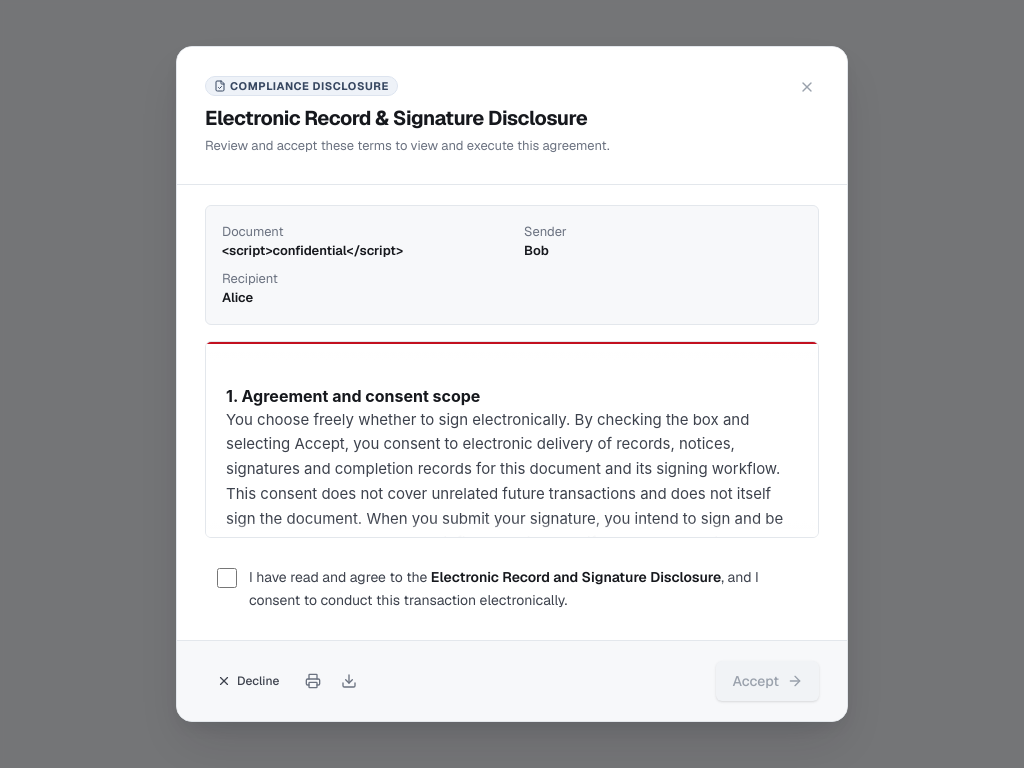
Test: ElectronicConsentModal (INK-99) › retains the decline confirmation and reports a failed submission
Step 1. Click the button with test id "ersd-decline-button" → (248, 681), box top-left (205, 665), bottom-right (291, 697)
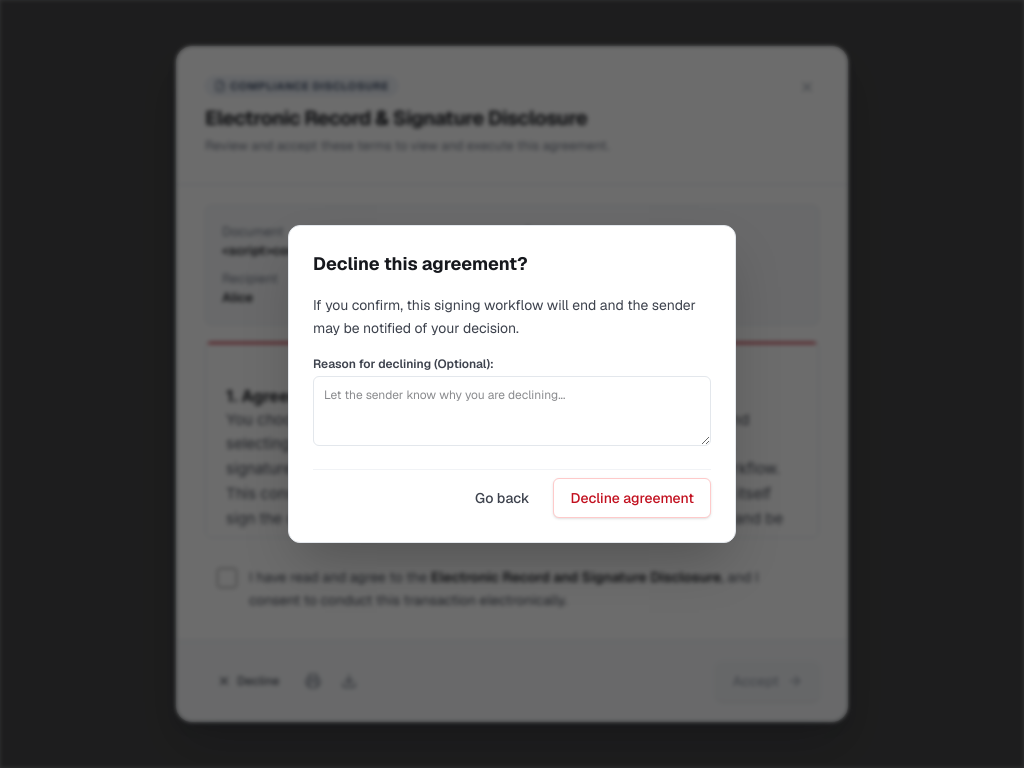
Step 2. Type "  Paper please  " into the text box labelled "Reason for declining (Optional):" → (512, 411), box top-left (313, 376), bottom-right (711, 446)
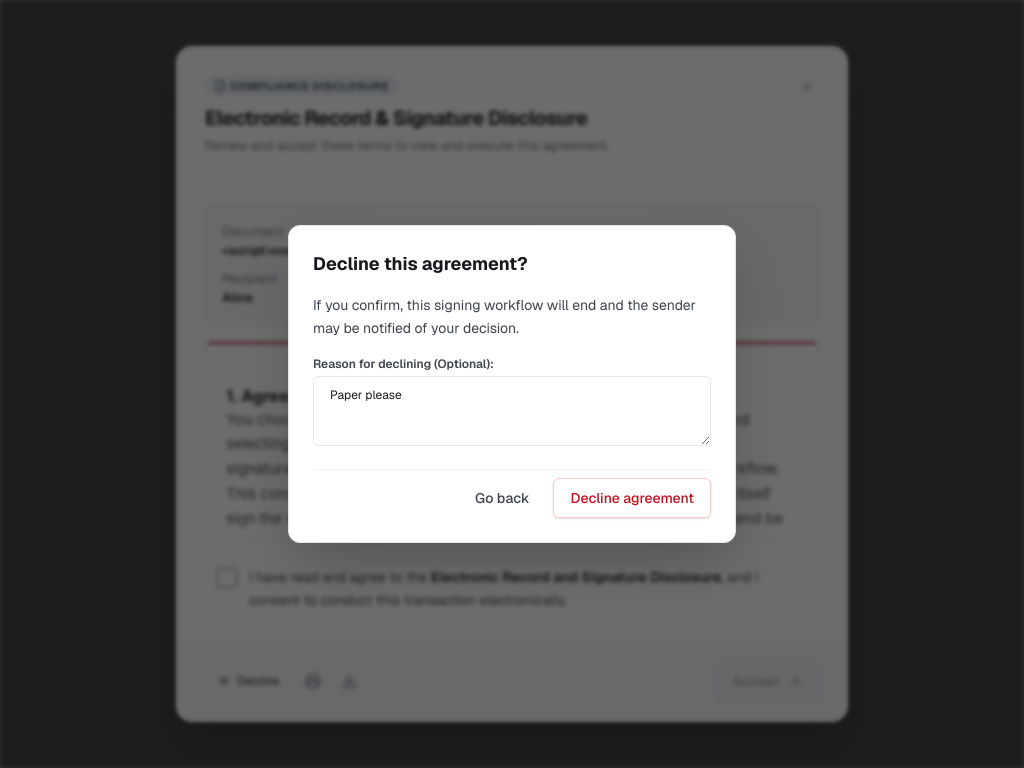
Step 3. Click the button "Decline agreement" → (632, 498), box top-left (554, 478), bottom-right (711, 518)
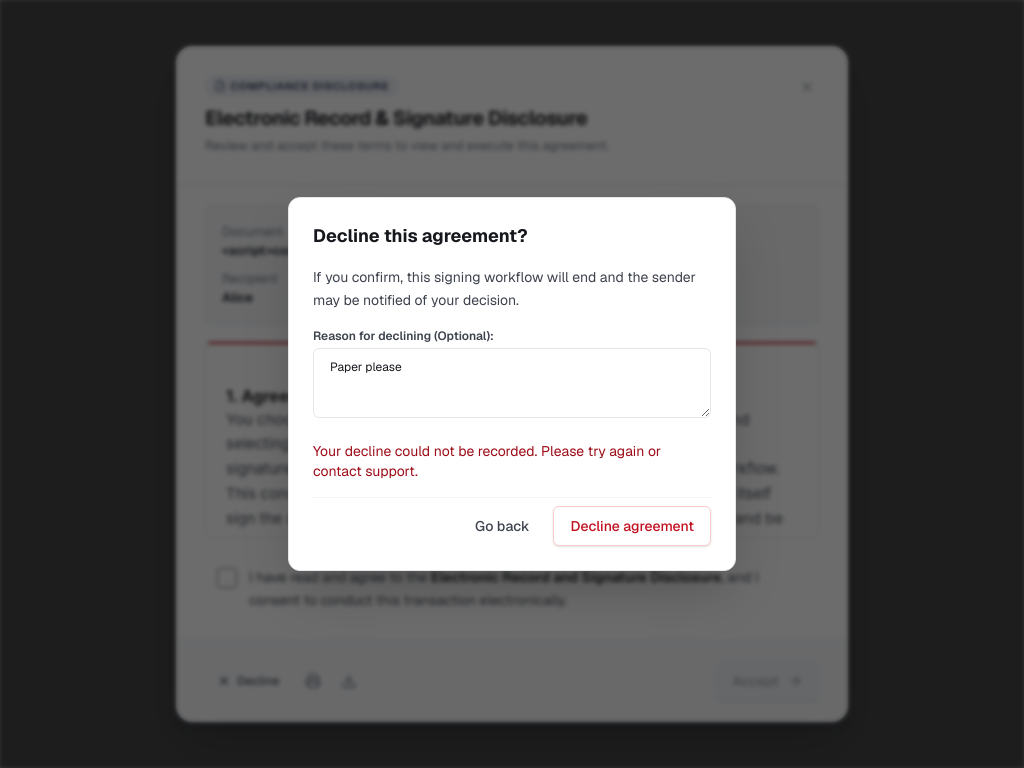
expect the button "Decline agreement" is shown: met, box top-left (554, 506), bottom-right (711, 546)
expect the message shows "decline could not be recorded": met, box top-left (313, 442), bottom-right (661, 480)
